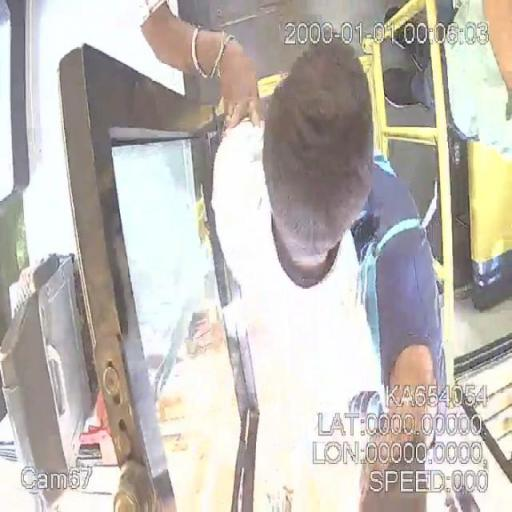persona: (207, 37, 447, 510)
